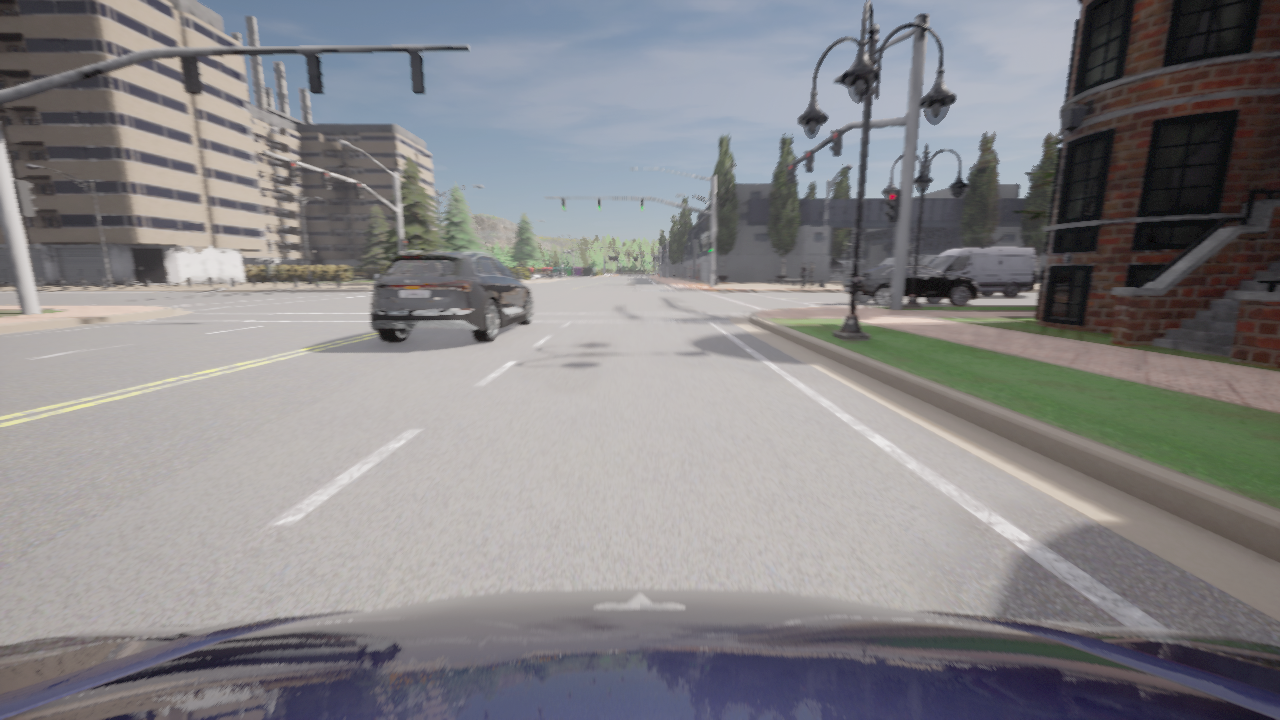cyclist: (0, 588, 1279, 719), (370, 248, 534, 342), (906, 246, 1036, 296), (538, 270, 554, 276), (555, 271, 565, 276), (557, 274, 567, 276), (530, 272, 535, 273), (974, 283, 976, 284)
pedestrian: (800, 262, 807, 287), (808, 262, 813, 288)
